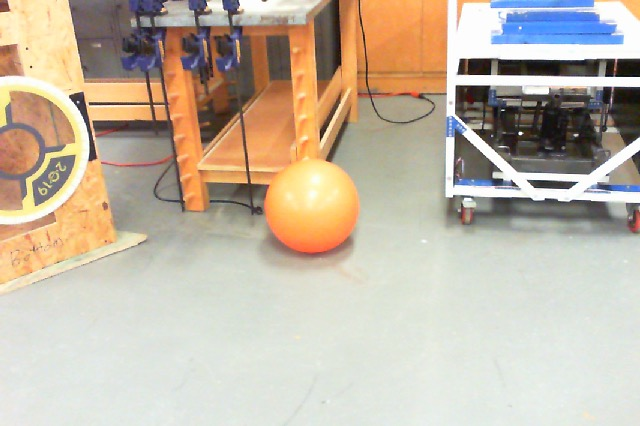Ball: (264, 159, 359, 253)
Hatch: (0, 76, 91, 225)
